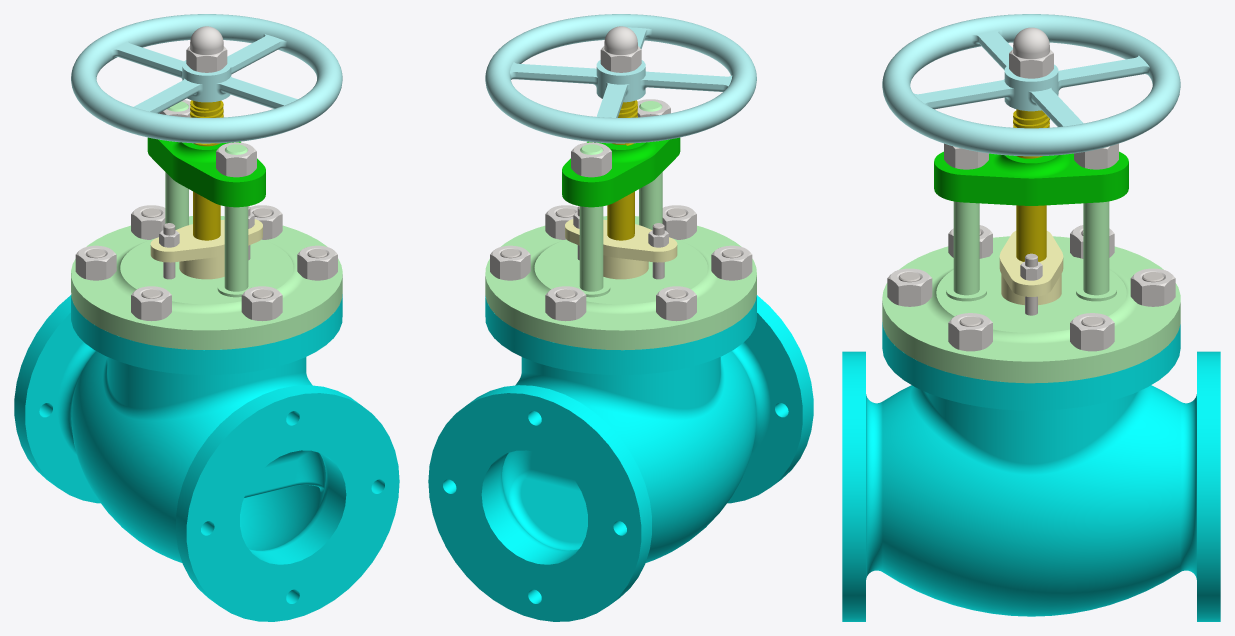
The model's file is valves.glb.
The picture shows the model from 3 angles, left to right: view 1: azimuth 30°, elevation 25°; view 2: azimuth 150°, elevation 25°; view 3: azimuth 270°, elevation 25°; orthographic projection. The views are drawn at different scales.
Parts seen in each view (by area): view 1: currentmodel.wrl.cleaner.materialmerger.gles; view 2: currentmodel.wrl.cleaner.materialmerger.gles; view 3: currentmodel.wrl.cleaner.materialmerger.gles.
Boxes of the visible parts, left/top/right/bottom form: currentmodel.wrl.cleaner.materialmerger.gles: left=14, top=14, right=399, bottom=621; currentmodel.wrl.cleaner.materialmerger.gles: left=428, top=14, right=813, bottom=621; currentmodel.wrl.cleaner.materialmerger.gles: left=842, top=14, right=1220, bottom=621.
Bounding box in the file's own units: 1.24 × 2.66 × 1.57.
